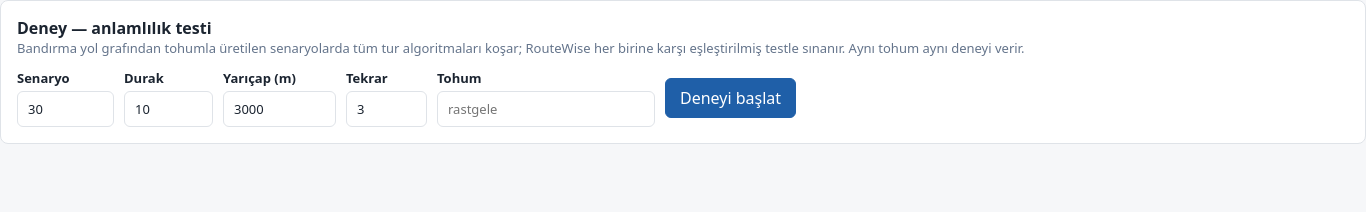
ExperimentSection (deney) › should show the server message when another experiment is running
Click the button "Deneyi başlat" at (731, 98), box [665,78,796,118]
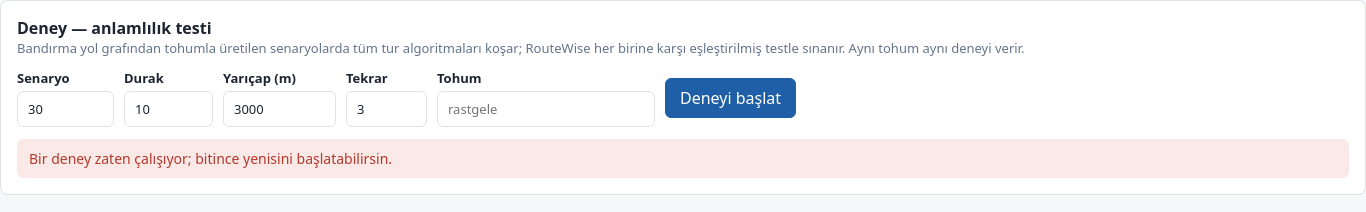
Result: the message shows "Bir deney zaten çalışıyor" at [29,149,392,168]
